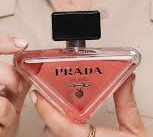prada_paradoxe: (10, 7, 141, 125)
